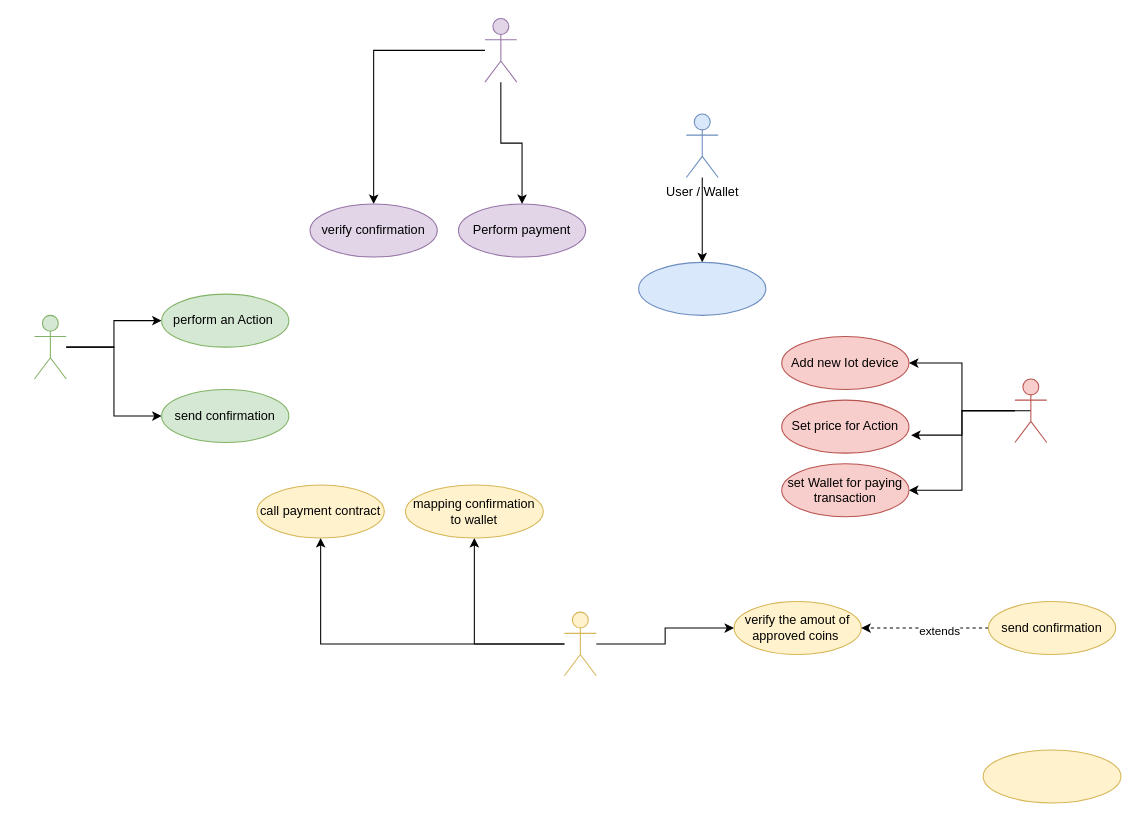
Some shapes in this 1139 by 821 pixel diagram are drawn without their labels. The centre of each missing label's shape, as x and y in pixels:
"Admin User" goes at pixel 1030 410.
"approve contract to perform payment" goes at pixel 702 288.
"Backend" goes at pixel 579 643.
"Blockchain" goes at pixel 500 49.
"IOT Device" goes at pixel 49 346.
"send failure" goes at pixel 1051 776.
